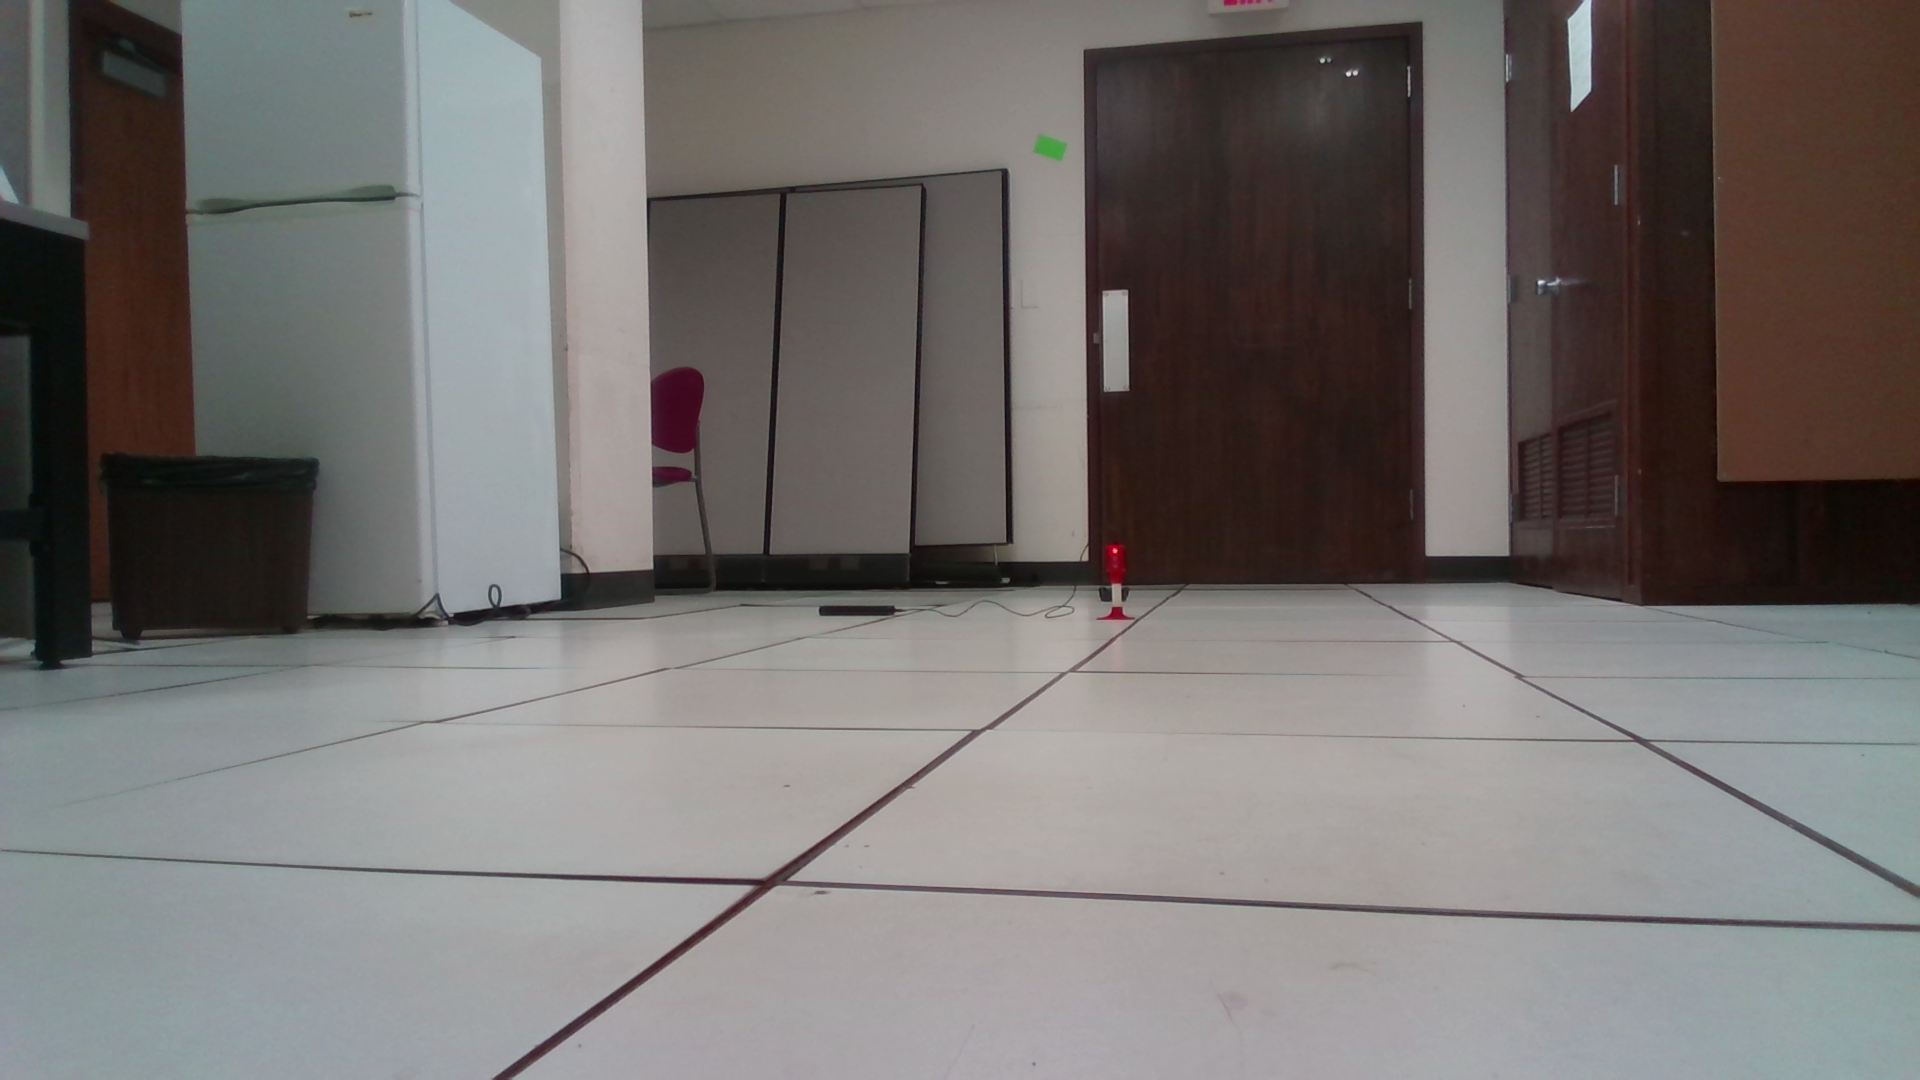stoplight: (1102, 545, 1126, 583)
